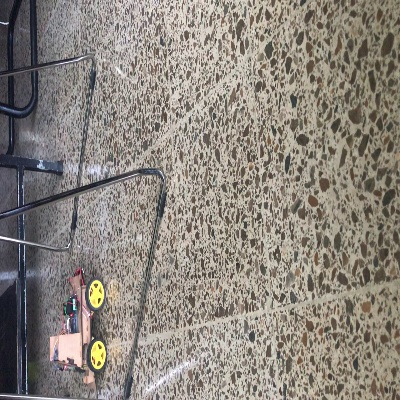Robot: (50, 272, 105, 384)
